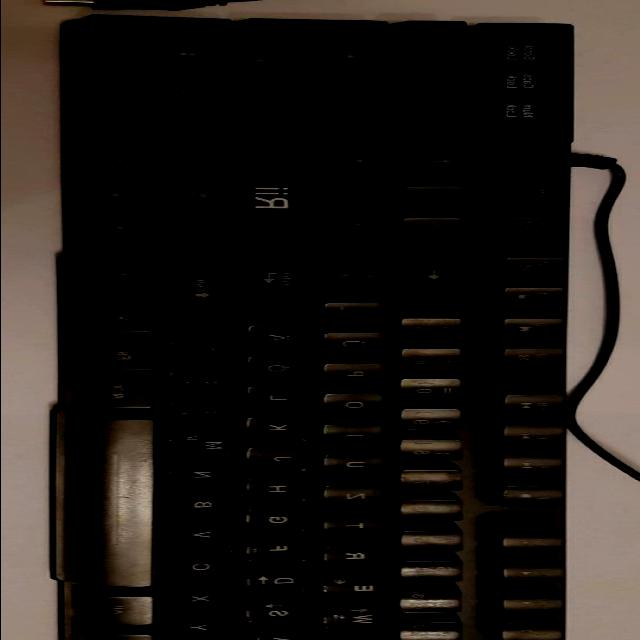0: (403, 379, 471, 403)
1: (403, 633, 467, 640)
2: (403, 623, 469, 640)
3: (403, 592, 471, 616)
4: (404, 561, 472, 585)
5: (404, 532, 472, 555)
6: (403, 501, 471, 524)
7: (404, 471, 472, 494)
8: (402, 440, 470, 464)
9: (403, 409, 471, 433)
a: (251, 632, 317, 640)
accent: (406, 319, 471, 341)
ae: (252, 327, 316, 351)
alt-left: (93, 597, 161, 628)
altgr-right: (94, 380, 162, 411)
b: (174, 496, 242, 520)
c: (173, 557, 239, 581)
caret: (403, 633, 466, 640)
comma: (173, 403, 241, 427)
d: (250, 571, 318, 594)
del: (405, 258, 473, 312)
e: (326, 578, 394, 602)
enter: (249, 258, 315, 319)
f: (249, 541, 315, 564)
g: (250, 510, 315, 534)
h: (250, 480, 315, 503)
hash: (327, 258, 390, 296)
i: (329, 425, 393, 449)
j: (251, 449, 317, 473)
k: (250, 418, 315, 442)
keyboard: (35, 11, 592, 640)
l: (252, 388, 316, 412)
less: (173, 632, 240, 640)
m: (172, 434, 242, 458)
minus: (175, 342, 241, 366)
n: (174, 465, 242, 489)
o: (327, 395, 391, 419)
oe: (252, 357, 316, 381)
p: (327, 365, 391, 388)
plus: (327, 305, 392, 328)
point: (173, 373, 241, 396)
q: (326, 632, 392, 640)
r: (329, 548, 394, 570)
s: (251, 602, 317, 626)
shift-left: (168, 628, 240, 640)
shift-lock: (248, 621, 313, 640)
shift-right: (172, 257, 236, 333)
space: (82, 420, 164, 591)
ss: (403, 349, 469, 372)
strg-left: (95, 625, 160, 640)
strg-right: (90, 256, 160, 296)
t: (329, 518, 394, 540)
tab: (325, 624, 391, 640)
u: (328, 455, 394, 479)
ue: (326, 335, 392, 358)
v: (175, 526, 240, 550)
w: (328, 609, 394, 632)
x: (173, 589, 239, 612)
y: (172, 619, 240, 640)
z: (329, 487, 394, 510)
